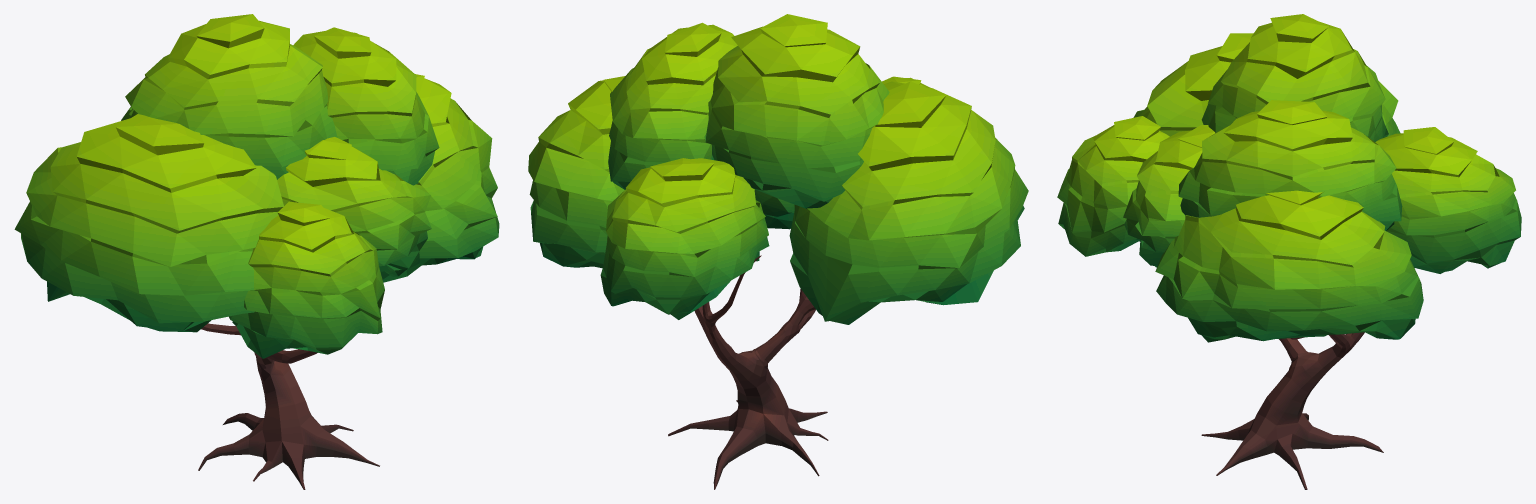
Rendered from tree_savannah04_lush_mod_01.fbx.
The picture shows the model from 3 angles, left to right: view 1: azimuth 30°, elevation 25°; view 2: azimuth 150°, elevation 25°; view 3: azimuth 270°, elevation 25°; orthographic projection. The views are drawn at different scales.
Parts seen in each view (by area): view 1: leaves04, tree04; view 2: leaves04, tree04; view 3: leaves04, tree04.
Part boxes in pixels (x1,y1,x2,y2): leaves04: [14, 14, 499, 358]; tree04: [198, 323, 379, 489]; leaves04: [528, 14, 1028, 324]; tree04: [668, 255, 828, 489]; leaves04: [1057, 14, 1521, 342]; tree04: [1201, 332, 1383, 489].
Size of the model in its own units: 7.71 by 7.46 by 7.35.
